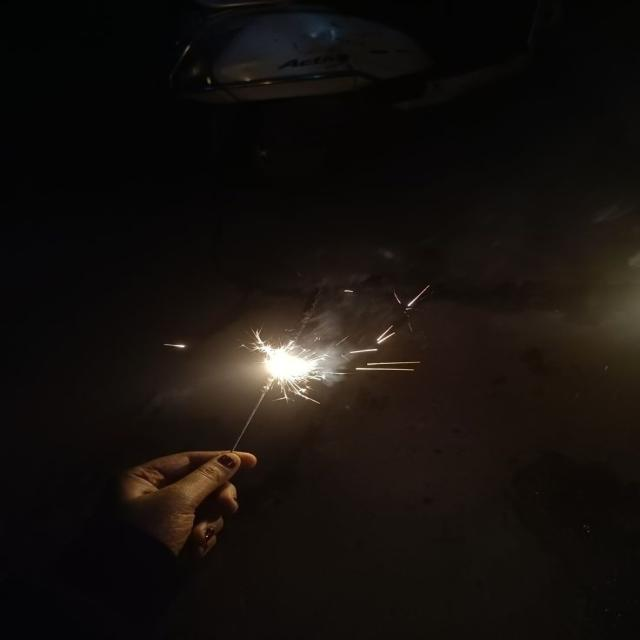fire: (262, 343, 321, 381)
